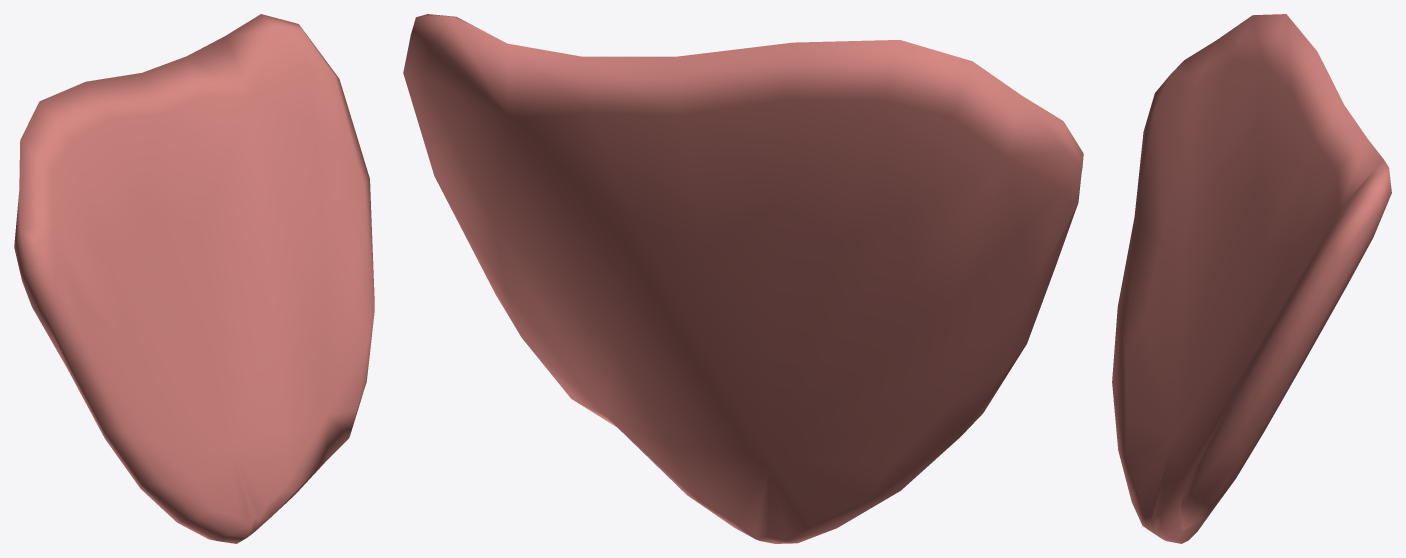
The picture shows the model from 3 angles, left to right: view 1: azimuth 30°, elevation 25°; view 2: azimuth 150°, elevation 25°; view 3: azimuth 270°, elevation 25°; orthographic projection. The views are drawn at different scales.
Parts seen in each view (by area): view 1: ZA_09f3c84702ad857f; view 2: ZA_09f3c84702ad857f; view 3: ZA_09f3c84702ad857f.
Boxes of the visible parts, left/top/right/bottom form: ZA_09f3c84702ad857f: left=14, top=14, right=374, bottom=543; ZA_09f3c84702ad857f: left=403, top=14, right=1083, bottom=543; ZA_09f3c84702ad857f: left=1112, top=14, right=1391, bottom=543.
Bounding box in the file's own units: 0.00546 × 0.00556 × 0.00312.
